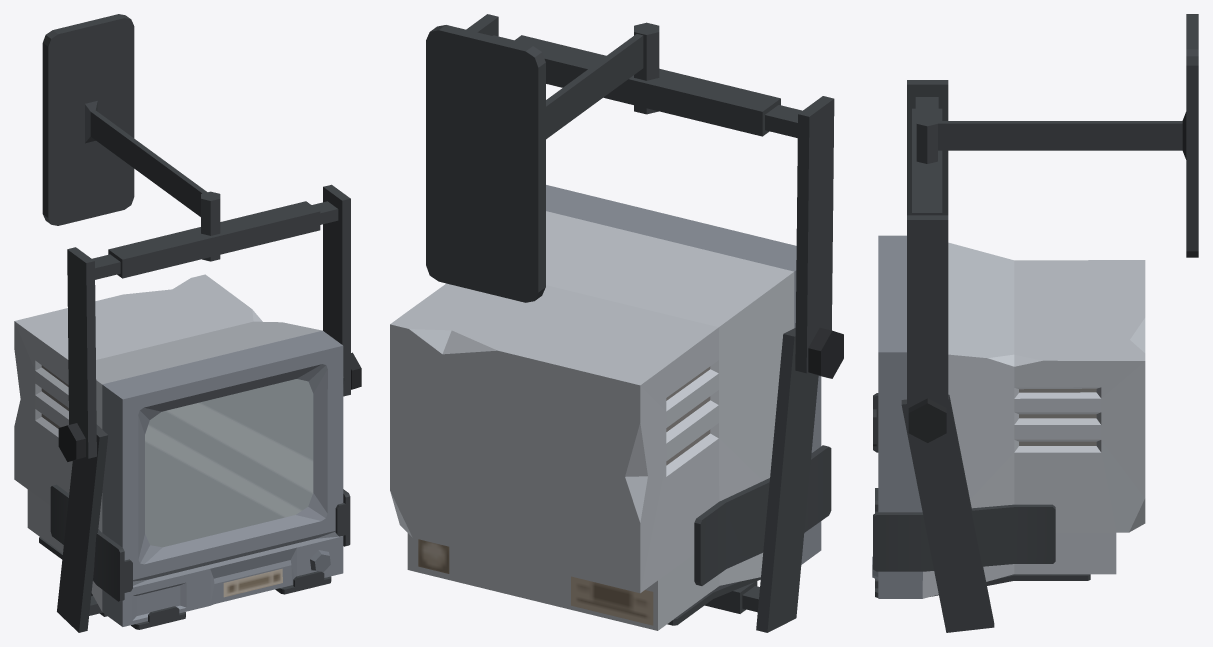
The model's file is SM_Prop_Television_01.fbx.
The picture shows the model from 3 angles, left to right: view 1: azimuth 30°, elevation 25°; view 2: azimuth 150°, elevation 25°; view 3: azimuth 270°, elevation 25°; orthographic projection. The views are drawn at different scales.
Parts seen in each view (by area): view 1: SM_Prop_Television_01_TV_01, SM_Prop_Television_01; view 2: SM_Prop_Television_01_TV_01, SM_Prop_Television_01; view 3: SM_Prop_Television_01_TV_01, SM_Prop_Television_01.
Boxes of the visible parts, left/top/right/bottom form: SM_Prop_Television_01_TV_01: left=14, top=274, right=343, bottom=626; SM_Prop_Television_01: left=39, top=14, right=361, bottom=632; SM_Prop_Television_01_TV_01: left=390, top=185, right=821, bottom=630; SM_Prop_Television_01: left=426, top=14, right=843, bottom=632; SM_Prop_Television_01_TV_01: left=872, top=235, right=1145, bottom=598; SM_Prop_Television_01: left=873, top=14, right=1198, bottom=632.
Size of the model in its own units: 55.17 by 91.77 by 50.56.
